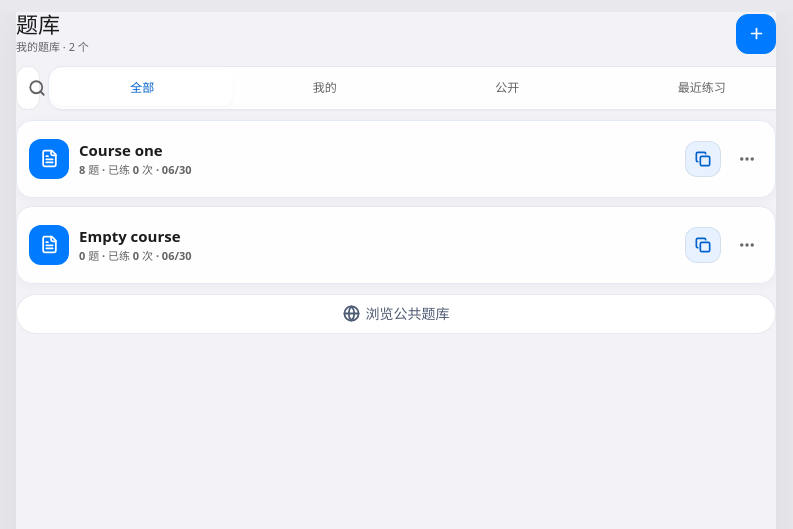
it: CourseList UX polish › keeps management actions compact but accessible
Step 1. Click the 1st button with class "more-btn" → [747, 159], box left=731, top=143, right=763, bottom=175
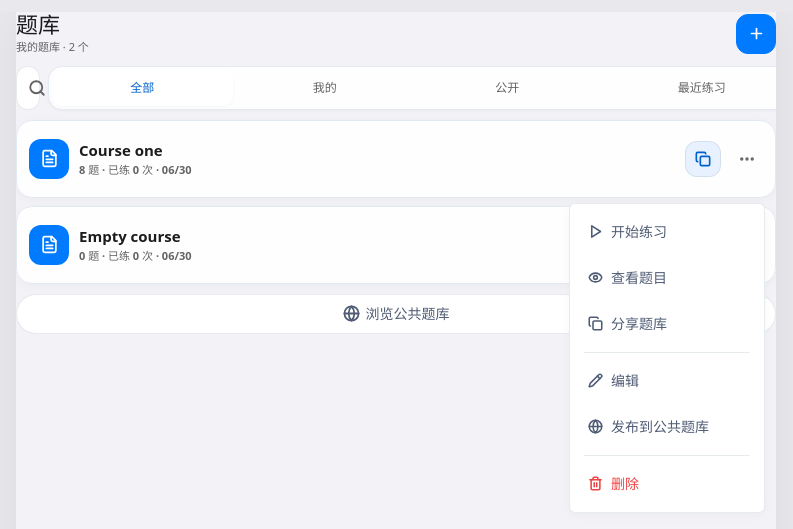
Expected: the element with class "menu-option" does not show ""
Expected: the number of buttons with class "menu-option" is 6, left=576, top=210, right=758, bottom=254; left=576, top=256, right=758, bottom=300; left=576, top=302, right=758, bottom=346; left=576, top=359, right=758, bottom=403; left=576, top=405, right=758, bottom=449; left=576, top=462, right=758, bottom=506
Expected: the button with class "menu-option" reads "开始练习", left=576, top=210, right=758, bottom=254
